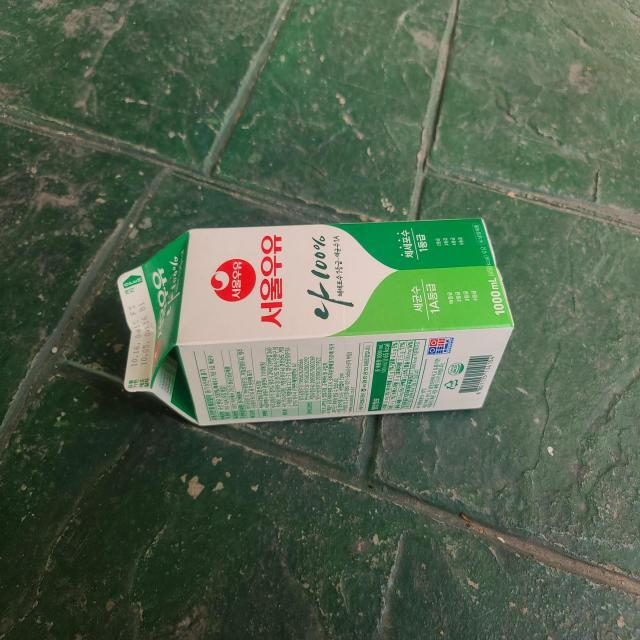paperpack: (117, 218, 514, 425)
